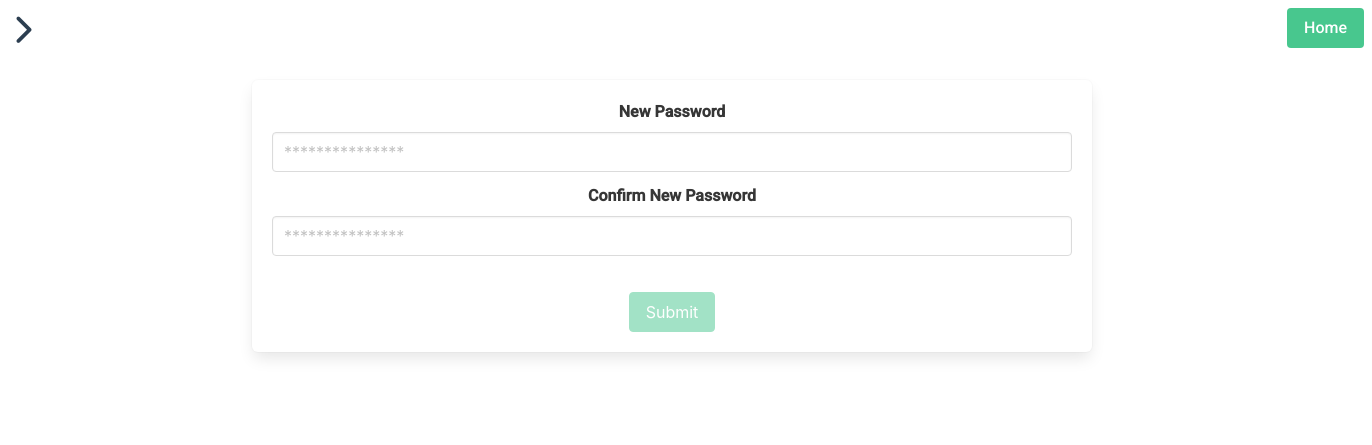
Test: check that the change password page works correctly › checks when typing the progress bar appears and disappears when typing
In the password field named "passwordInput": x=672, y=152 [272,132,1072,172], type "a really big password weeeeeeeeeeeeeeeeeeeeeeeeeeee"
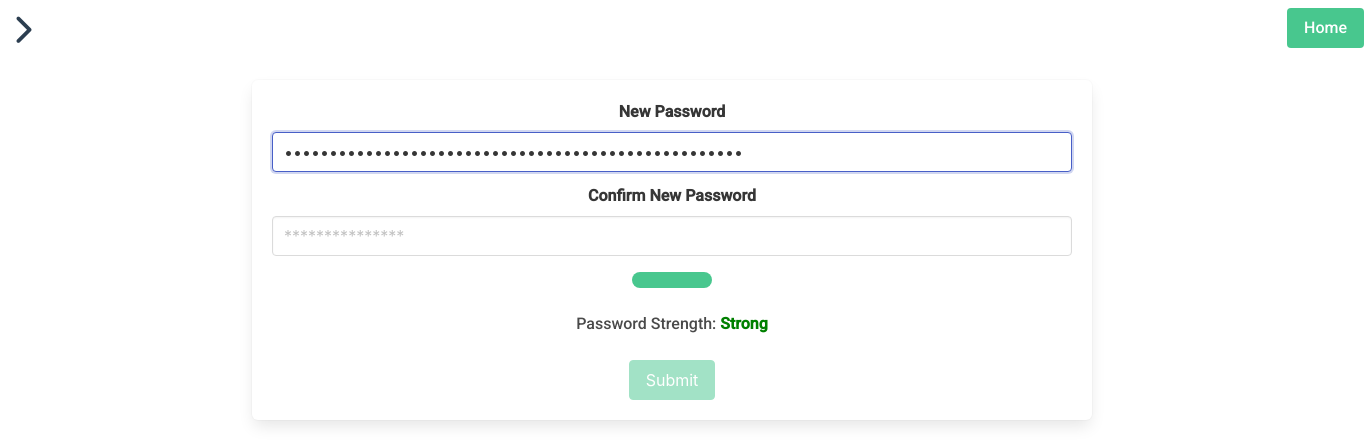
expect the number of progress indicators is 1: met, box [632,272,712,288]
Clear the password field named "passwordInput": x=672, y=152 [272,132,1072,172]
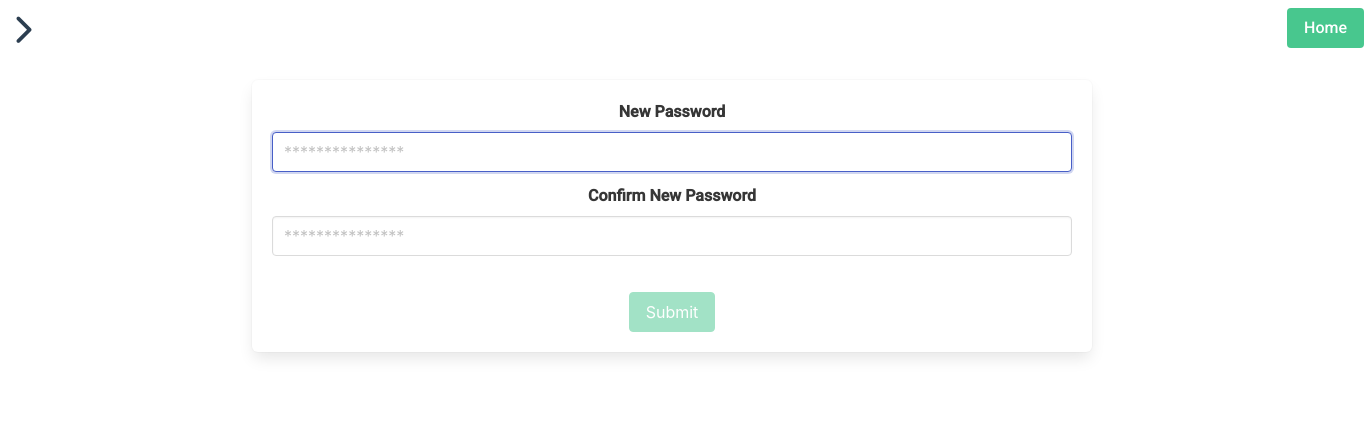
expect no progress indicators are shown: met
